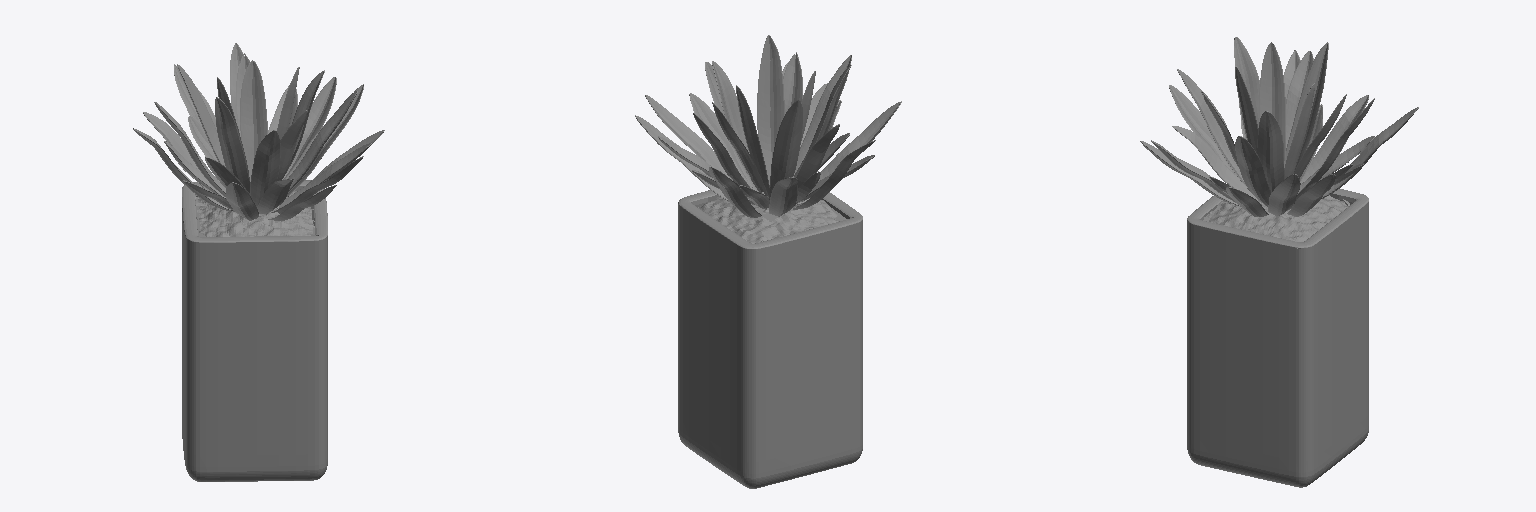
The model's file is Flower.obj.
The picture shows the model from 3 angles: view 1: azimuth 30°, elevation 25°; view 2: azimuth 150°, elevation 25°; view 3: azimuth 270°, elevation 25°; orthographic projection.
Visible parts, largest first — view 1: trop_flower_set_01.001; view 2: trop_flower_set_01.001; view 3: trop_flower_set_01.001.
Part boxes in pixels (x1,y1,x2,y2): trop_flower_set_01.001: (133, 43, 384, 481); trop_flower_set_01.001: (635, 35, 901, 488); trop_flower_set_01.001: (1140, 37, 1418, 487).
Size of the model in its own units: 0.608 by 1.01 by 0.636.